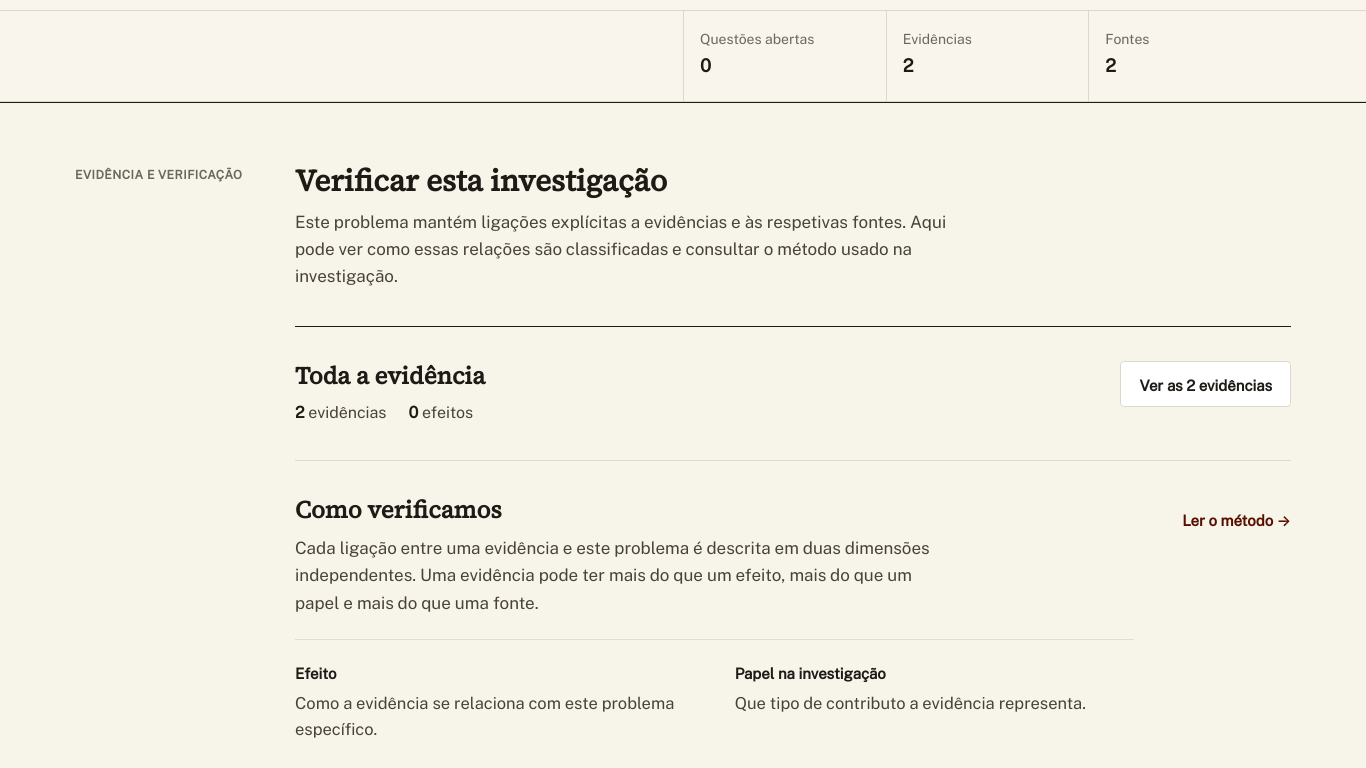
Test case: PrbDetailsPresentation — audit evidence drawer › links a public available Source by its readable name and keeps unsafe references as text
(page scrolled)
Step 1. Click the button "Ver as 2 evidências" → (1206, 384), box left=1120, top=362, right=1291, bottom=408
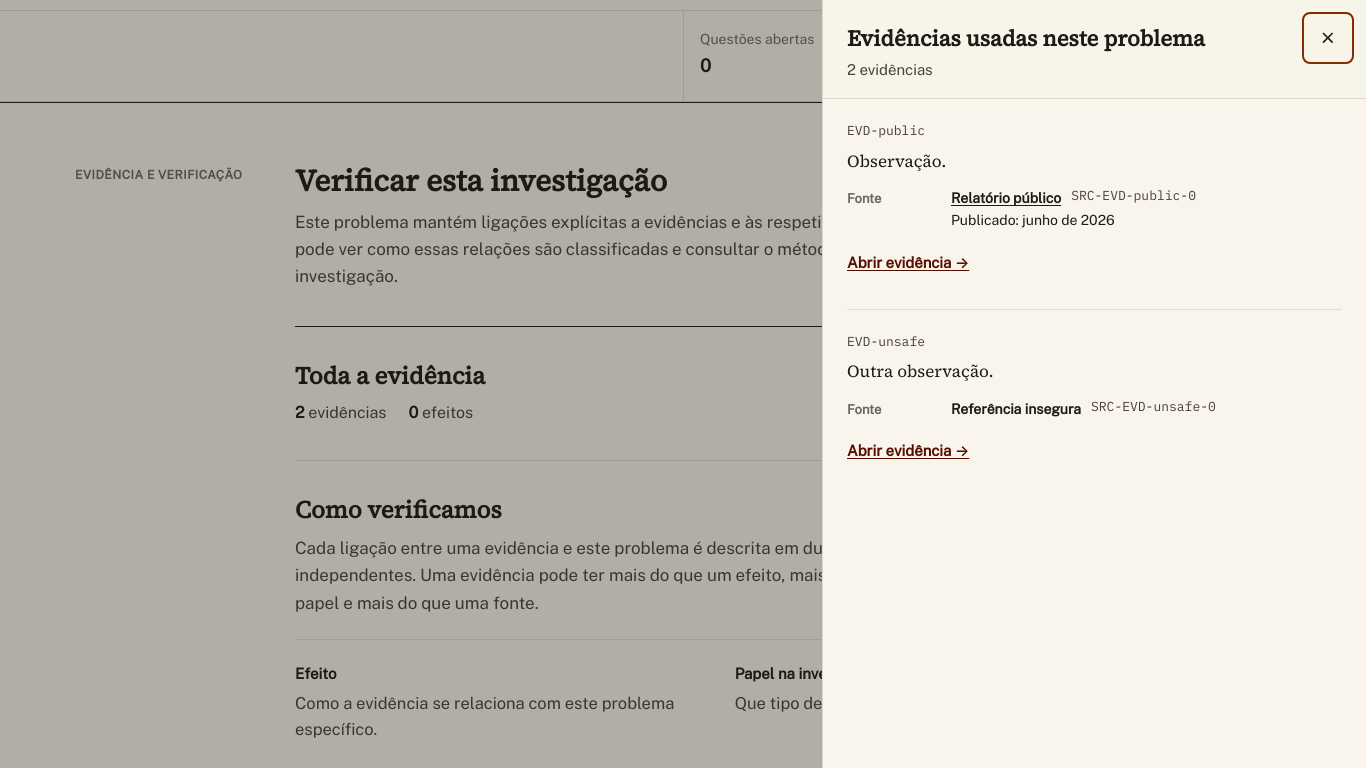
Result: the text "Publicado: junho de 2026" is shown at left=951, top=210, right=1115, bottom=230
